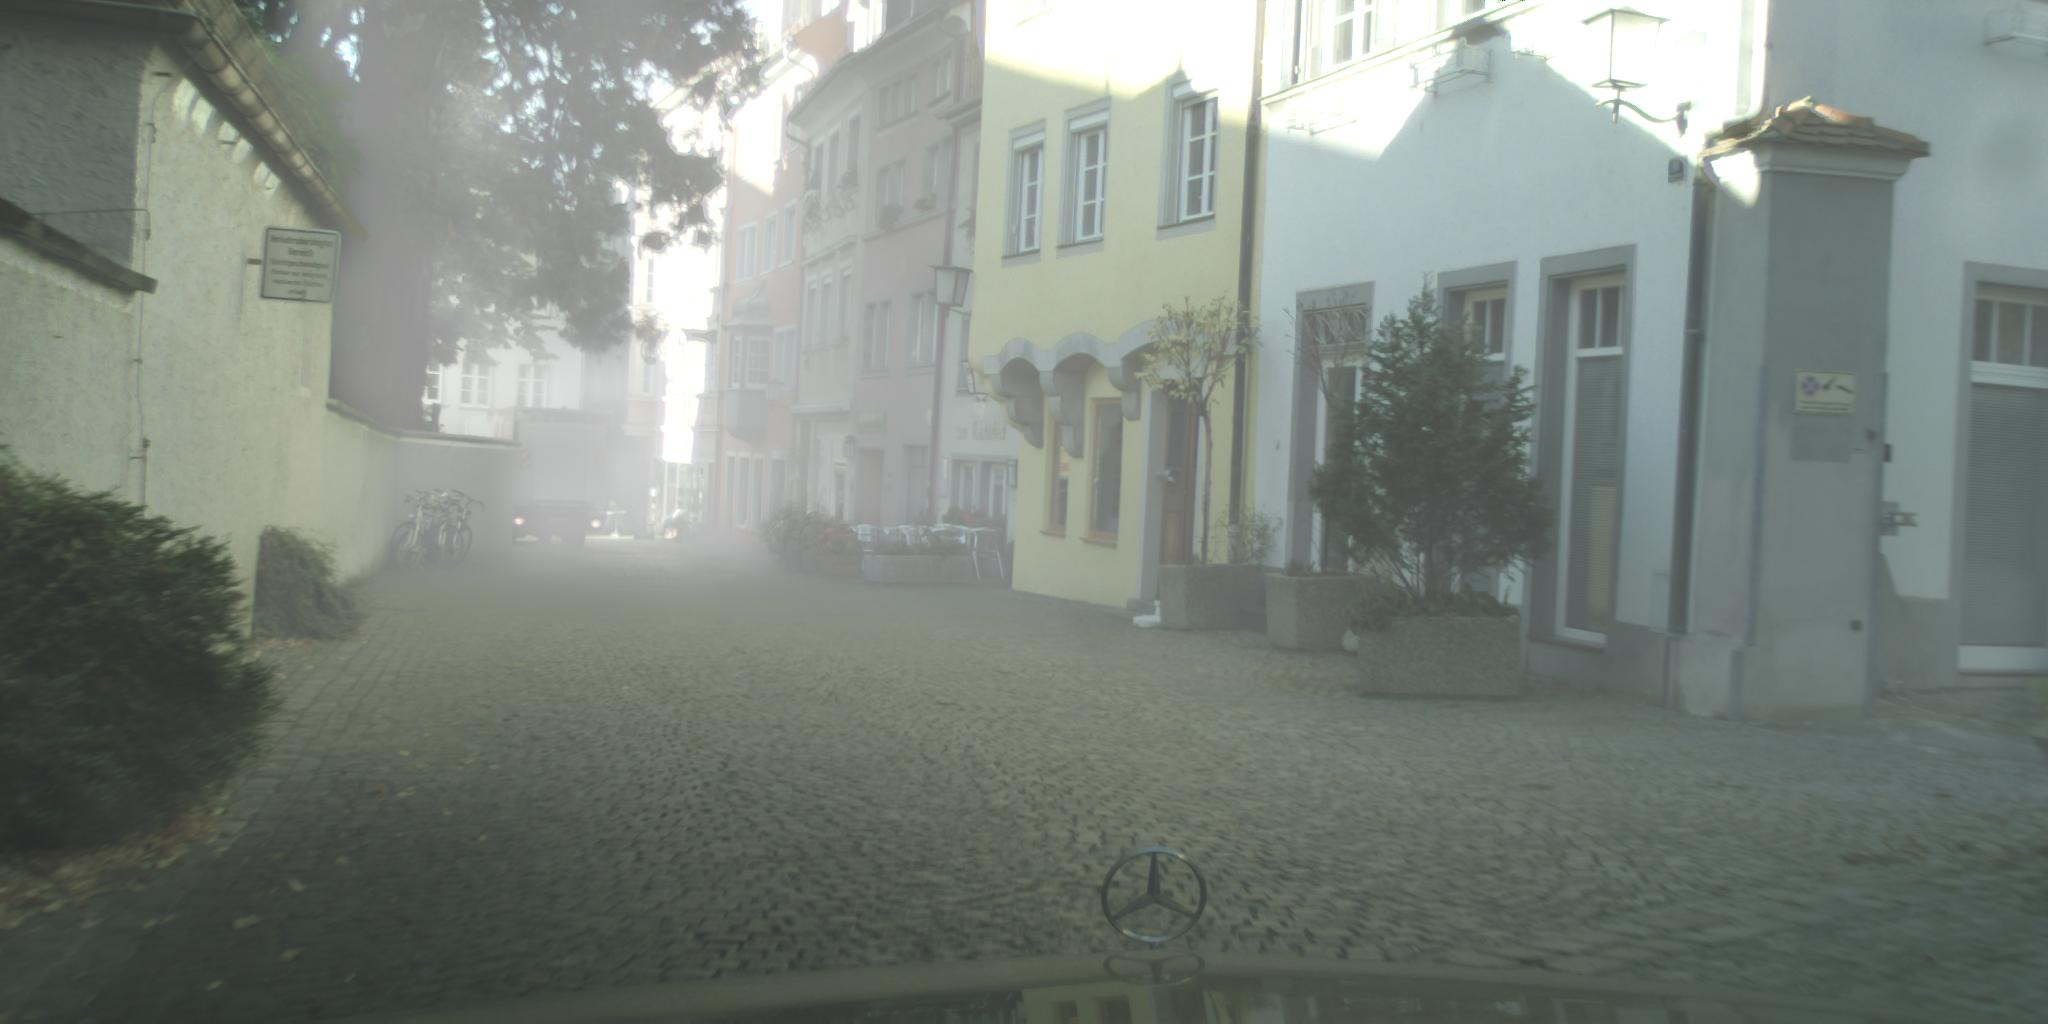truck: (464, 406, 613, 549)
